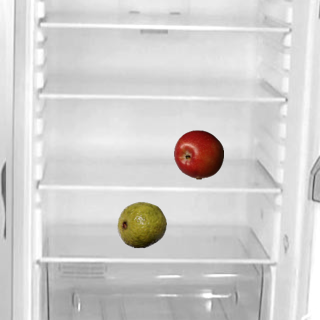Apple Braeburn: (173, 129, 223, 179)
Guava: (116, 199, 166, 249)
